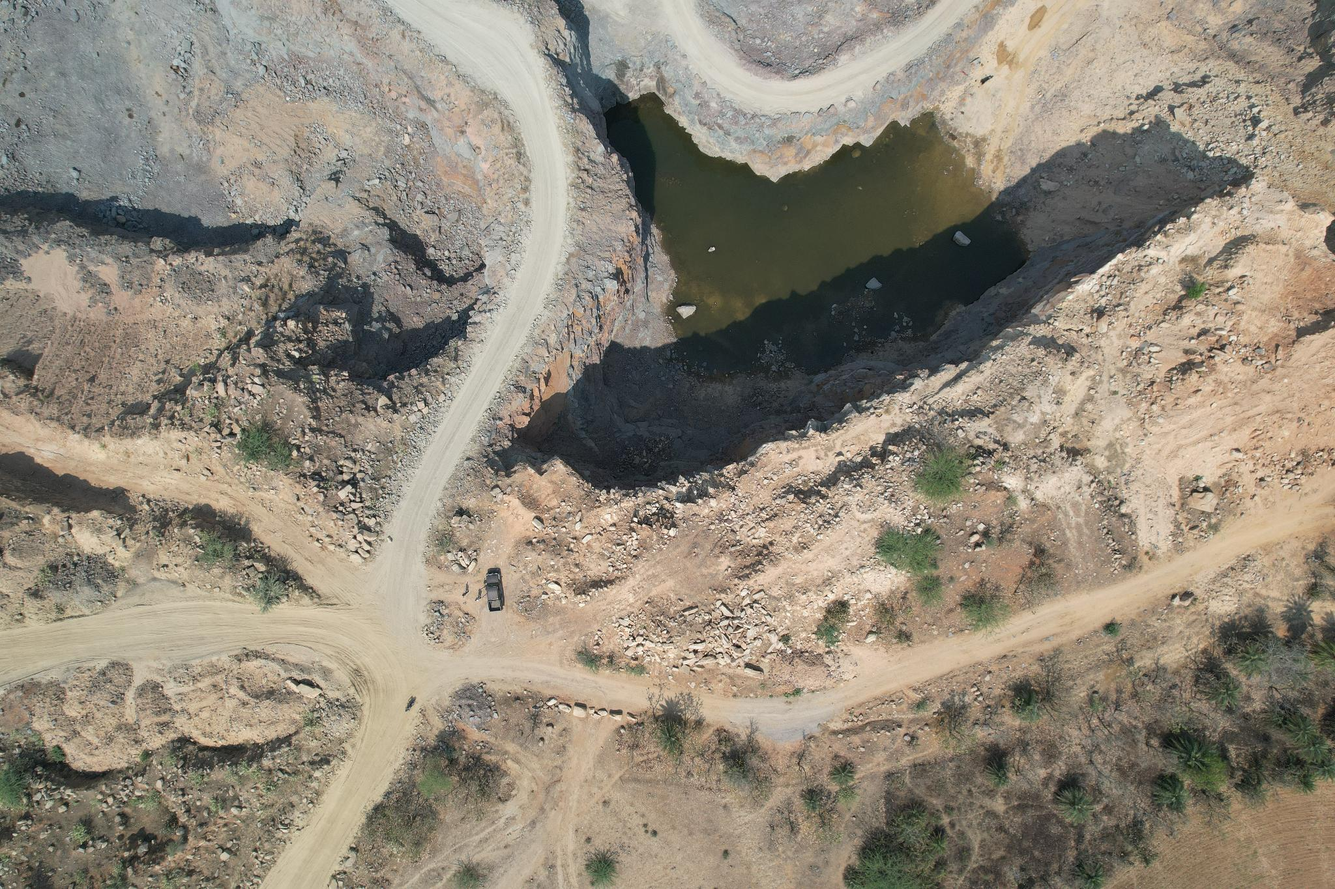benches: (0, 241, 647, 889), (263, 0, 571, 889), (701, 480, 1335, 740), (423, 7, 568, 238), (0, 612, 273, 677)
truck: (475, 569, 514, 613)
